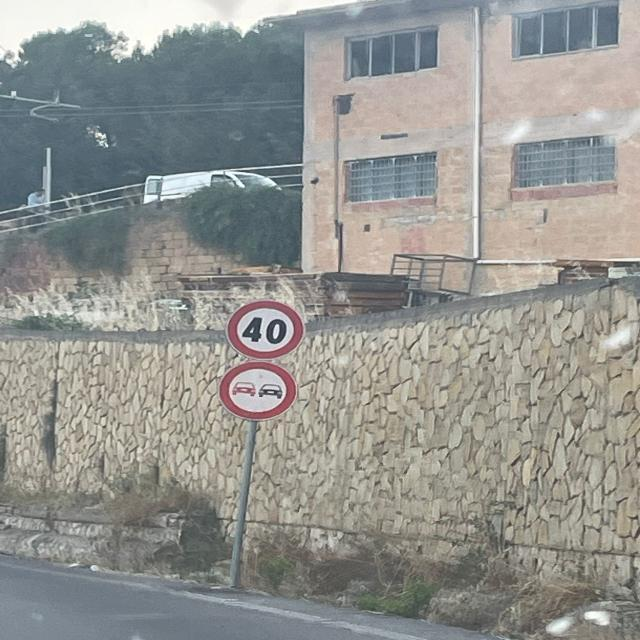forb_overtake: (215, 362, 299, 421)
forb_speed_over_40: (225, 298, 309, 359)
